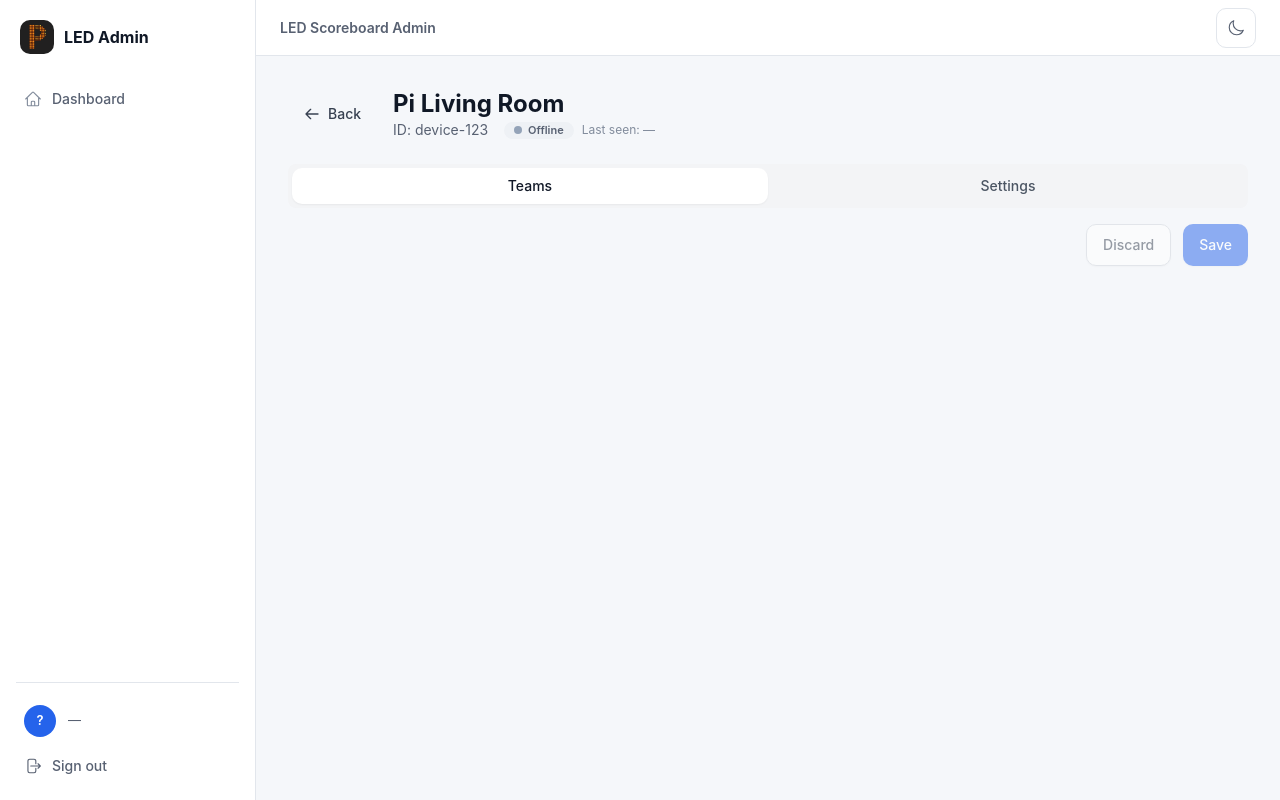
DevicePage – device rename integration › happy-path rename › updates the page h1 heading to reflect the new device name after a successful rename
Click the tab "Settings".
click(1008, 186)  # box [772, 168, 1244, 204]
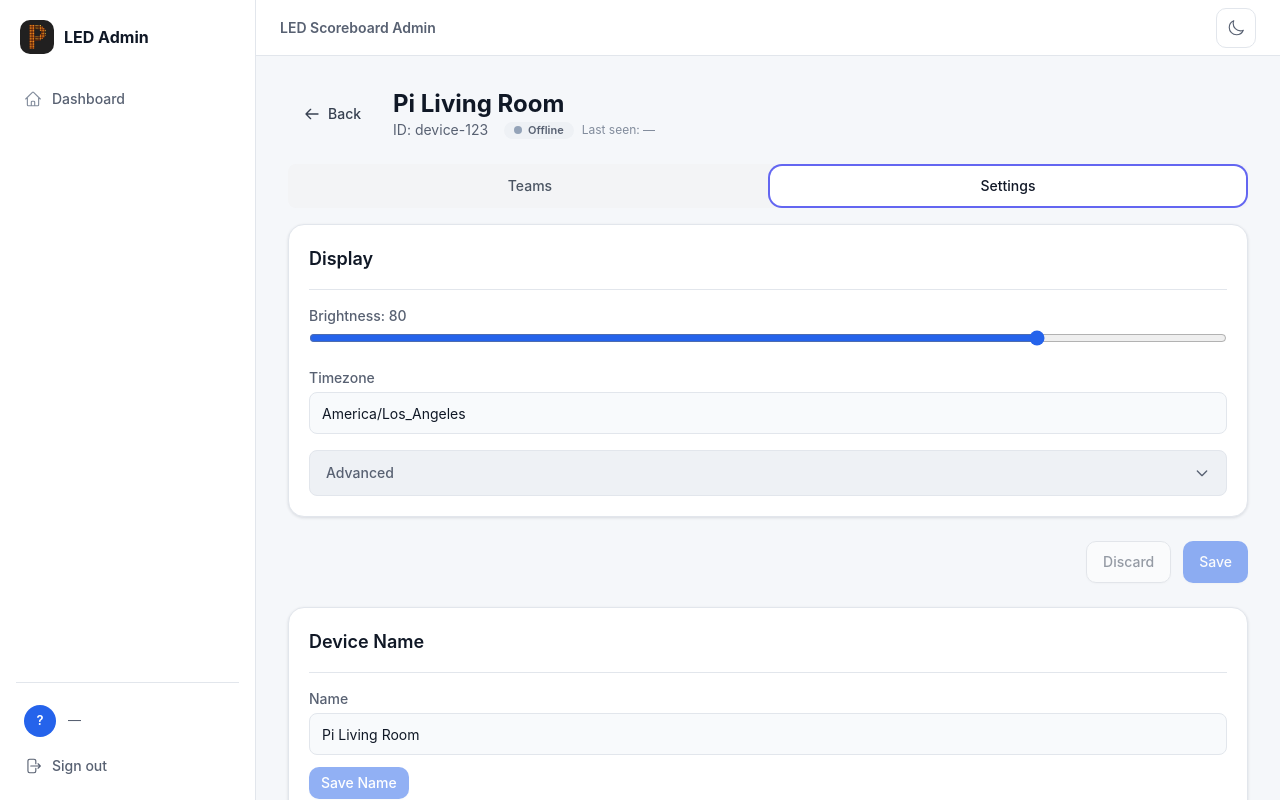
Expected: the heading "Pi Living Room" is shown, [393, 89, 564, 118]
Replace the text in the field with placeholder "My Scoreboard" with "Game Room Pi" at (768, 734), box [309, 713, 1227, 755]
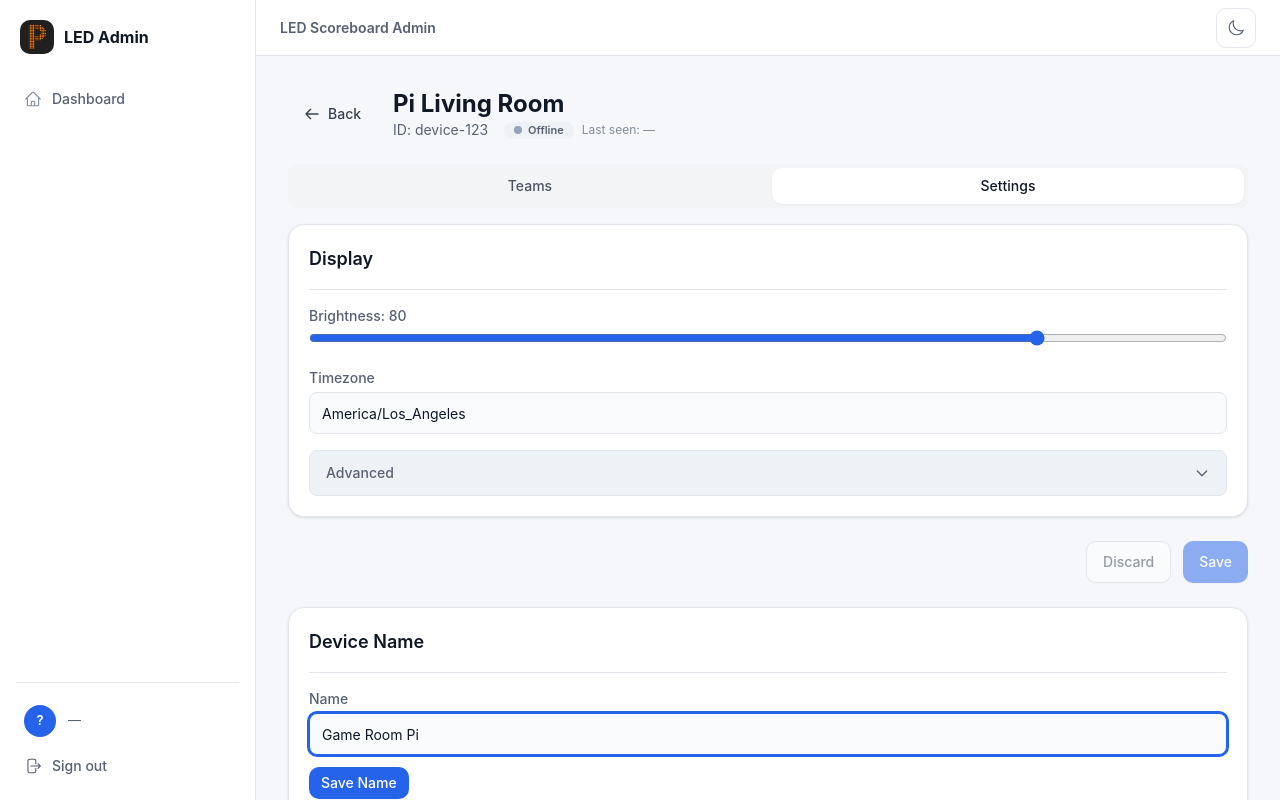
Click the button "Save Name".
click(359, 783)  # box [309, 767, 409, 799]
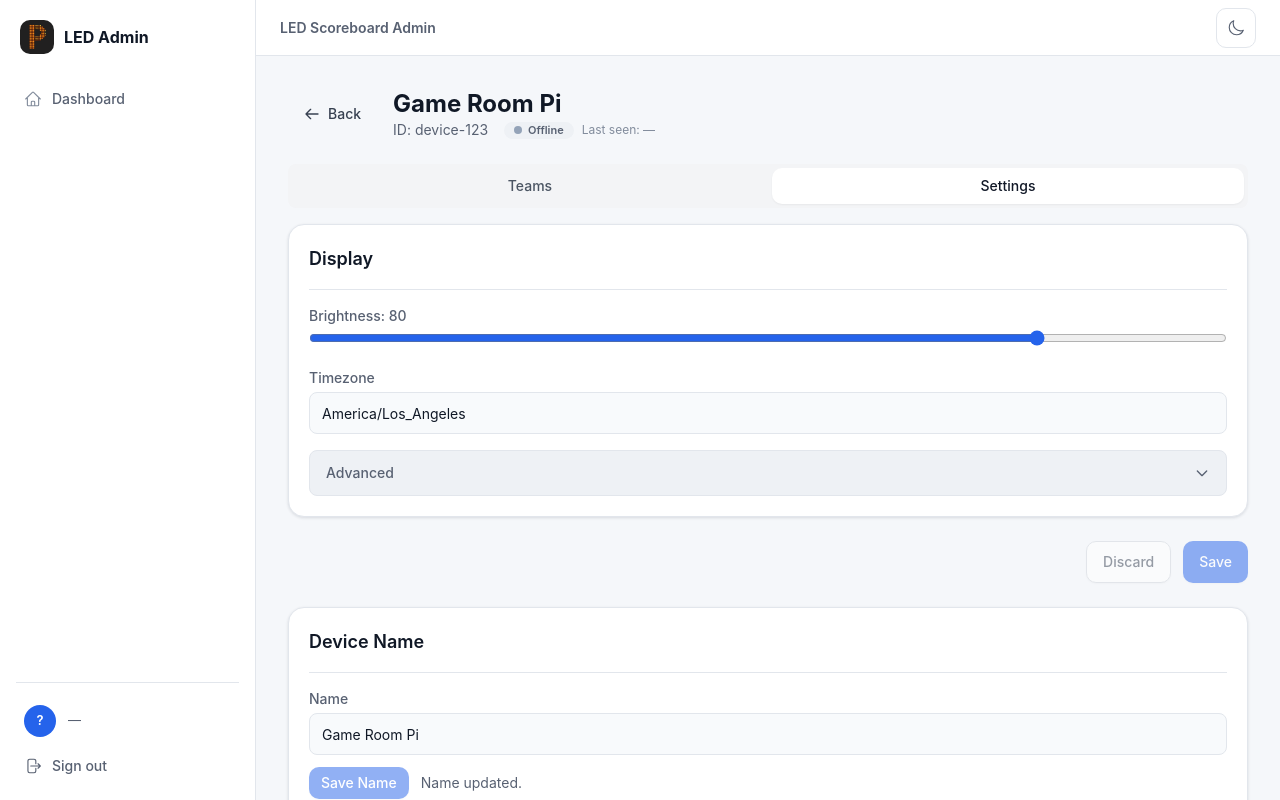
Now the heading "Game Room Pi" is shown, box [393, 89, 562, 118]
